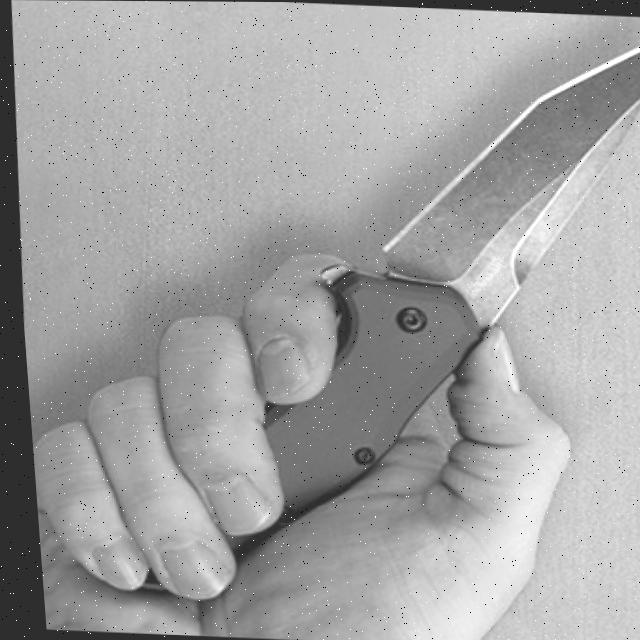knife: (228, 13, 640, 542)
